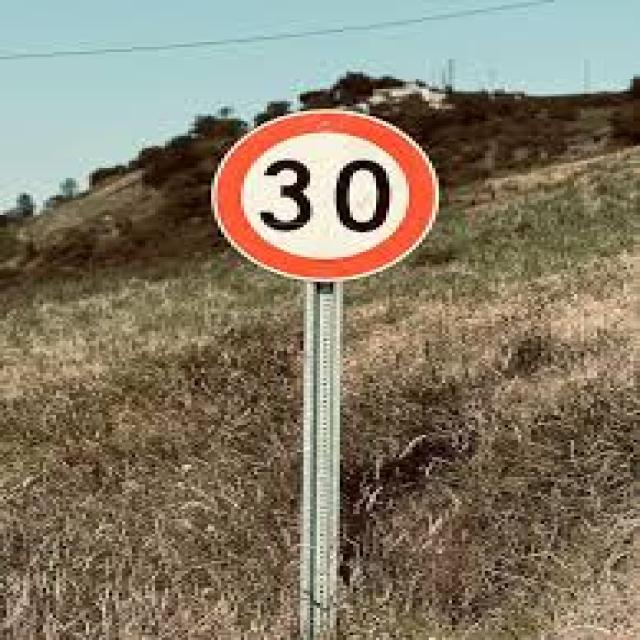SPEED_LIMIT_30: (207, 101, 448, 292)
